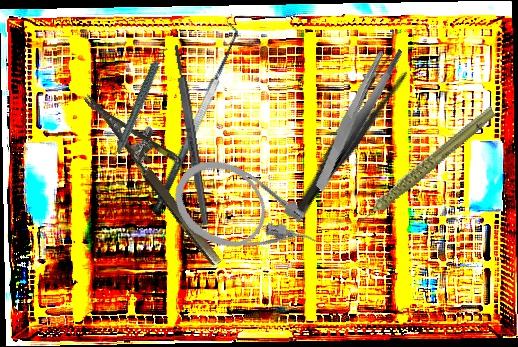Cannula: (161, 146, 329, 286)
Dressing Forceps: (282, 44, 417, 228), (282, 39, 431, 193)
Handpiece: (333, 104, 513, 227), (96, 46, 189, 155)
Needle Holder: (82, 73, 245, 269)
Scalpel Handle: (171, 44, 211, 226)
Spatula Surgical: (135, 20, 250, 216)
